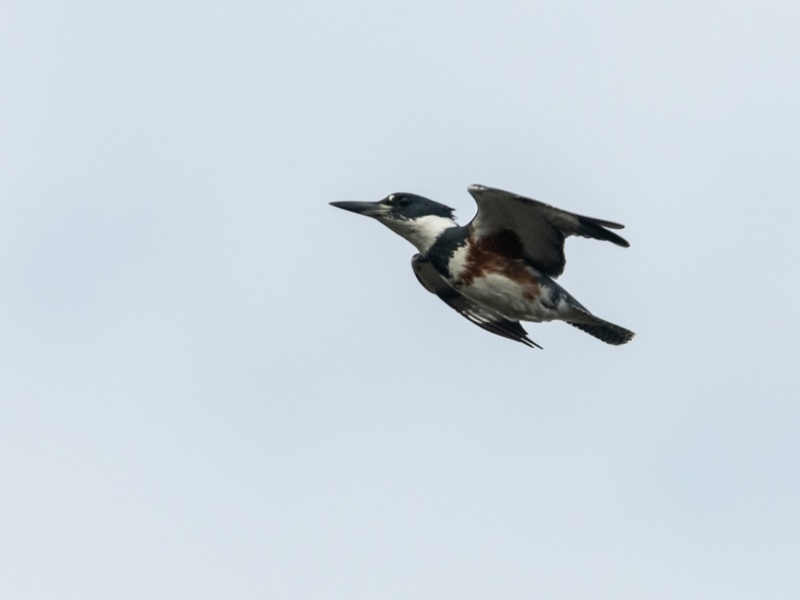kingfisher: (321, 184, 640, 356)
